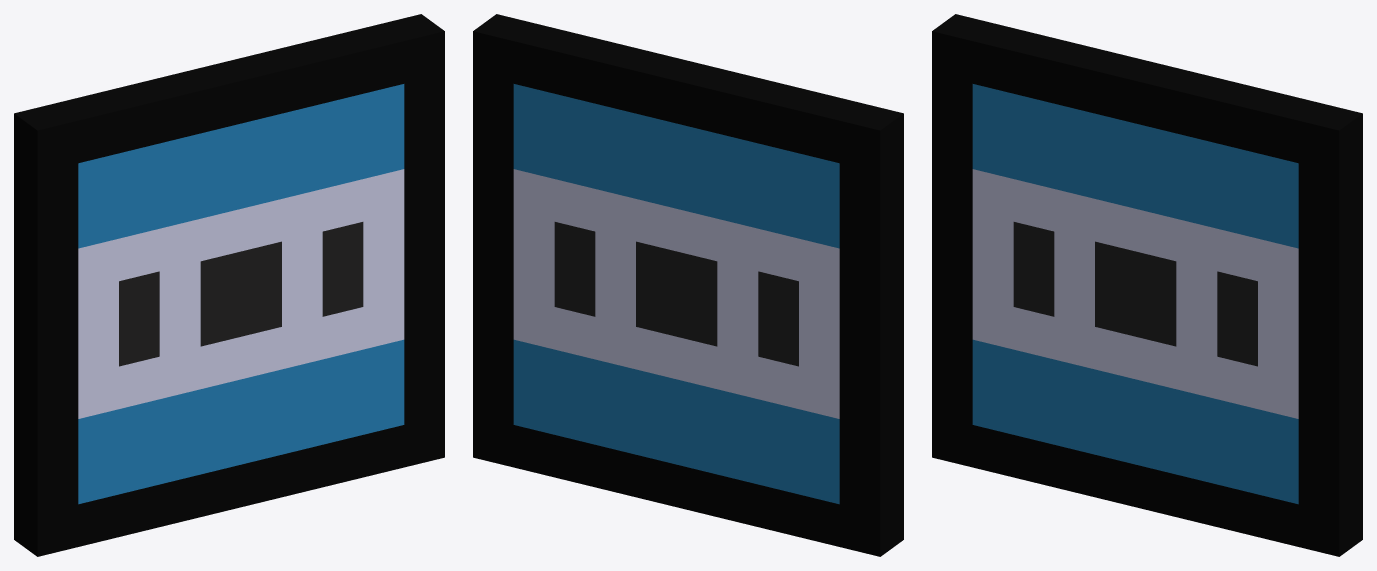
The model's file is Light Blue Paintball Explosive Item.glb.
3 renders of one model, left to right at view 1: azimuth 30°, elevation 25°; view 2: azimuth 150°, elevation 25°; view 3: azimuth 330°, elevation 25°, orthographic.
Visible parts, largest first — view 1: generated; view 2: generated; view 3: generated.
Boxes of the visible parts, left/top/right/bottom form: generated: left=14, top=14, right=444, bottom=556; generated: left=473, top=14, right=903, bottom=556; generated: left=932, top=14, right=1362, bottom=556.
Size of the model in its own units: 10 by 10 by 1.
Materials: 1 (1 with a texture image).
